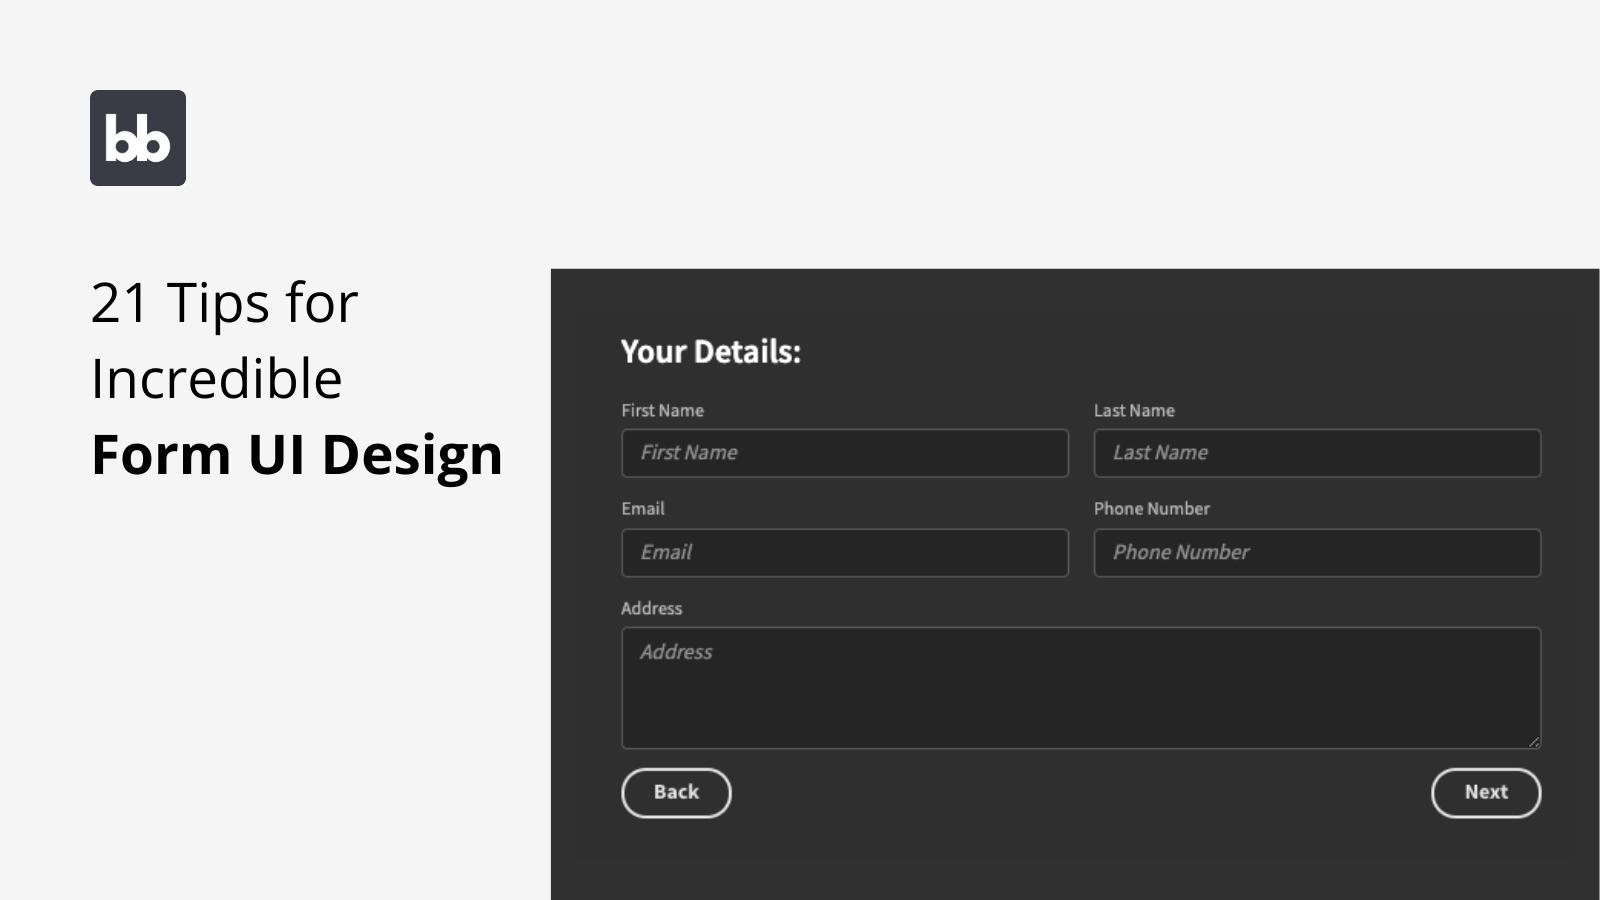button: (621, 762, 740, 826), (1427, 767, 1549, 819)
input: (1095, 527, 1542, 579), (626, 530, 1069, 578), (1096, 433, 1540, 480), (622, 432, 1070, 478)
label: (613, 330, 811, 376), (1095, 500, 1215, 523), (623, 401, 714, 424), (1092, 402, 1187, 424), (622, 597, 687, 624), (616, 495, 674, 521)
